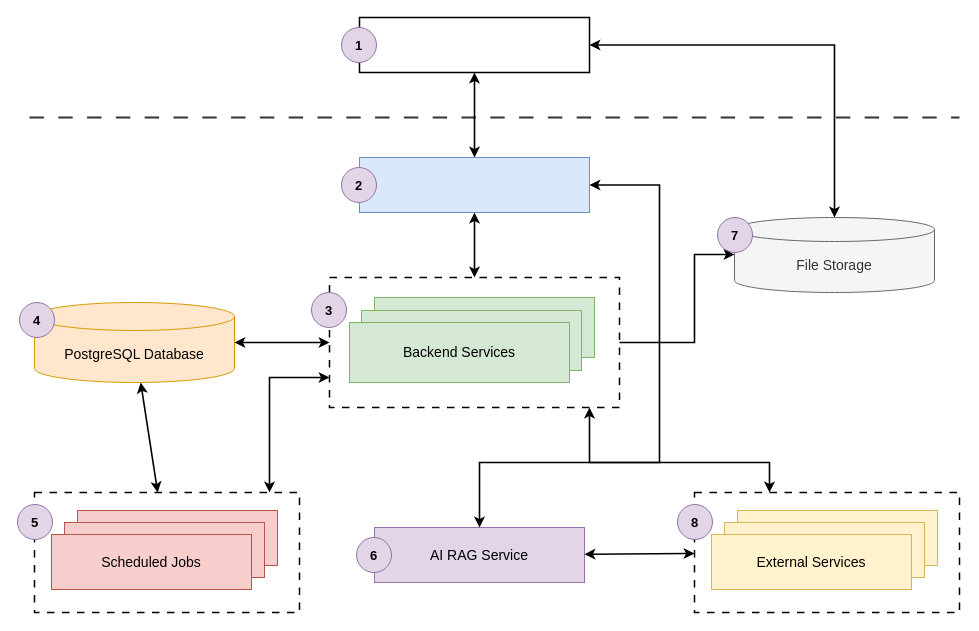
Some shapes in this 979 by 631 pixel diagram are drawn without their labels. The centre of each missing label's shape, as x and y in pixels:
"API Gateway" belongs at pixel 474 184.
"React Web Client" belongs at pixel 474 44.
